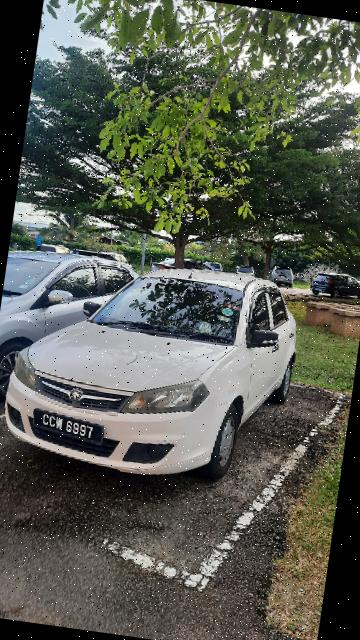License_Plate: (28, 406, 110, 450)
car: (1, 238, 311, 496)
